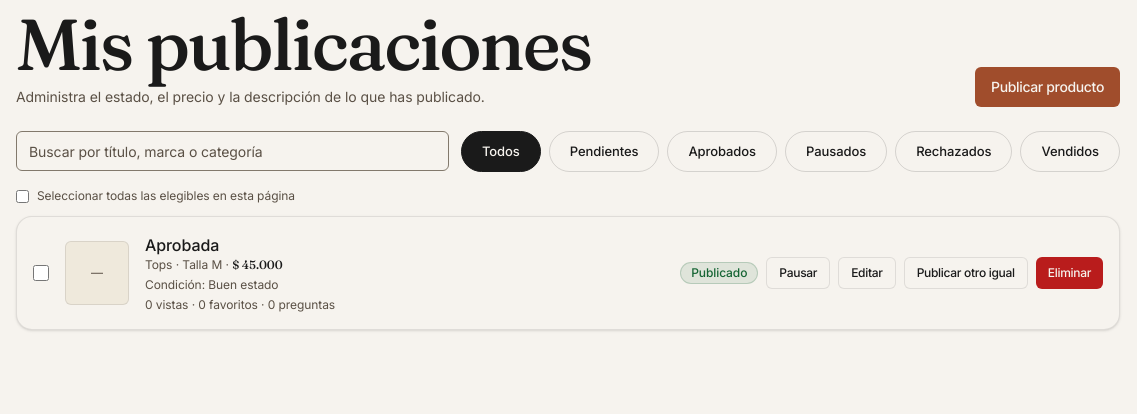
Test: MisProductosPage › muestra un aviso distinto cuando ninguna de las seleccionadas se pudo pausar
Expected: the element with test id "mine-product-p35" is shown, [16,216,1120,330]
Click the checkbox named "seleccionar aprobada". click: [41, 273]
box: [33,265,49,281]
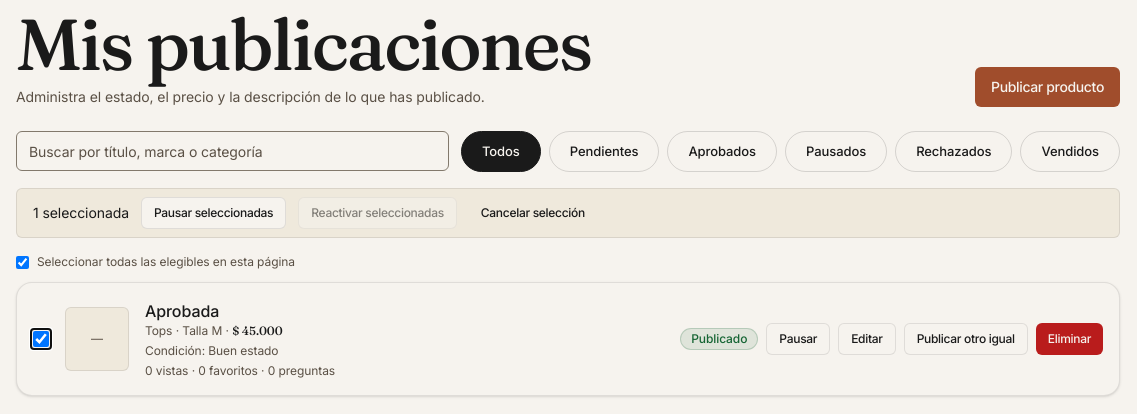
Click the button "Pausar seleccionadas". click: [214, 213]
box: [141,197,286,229]
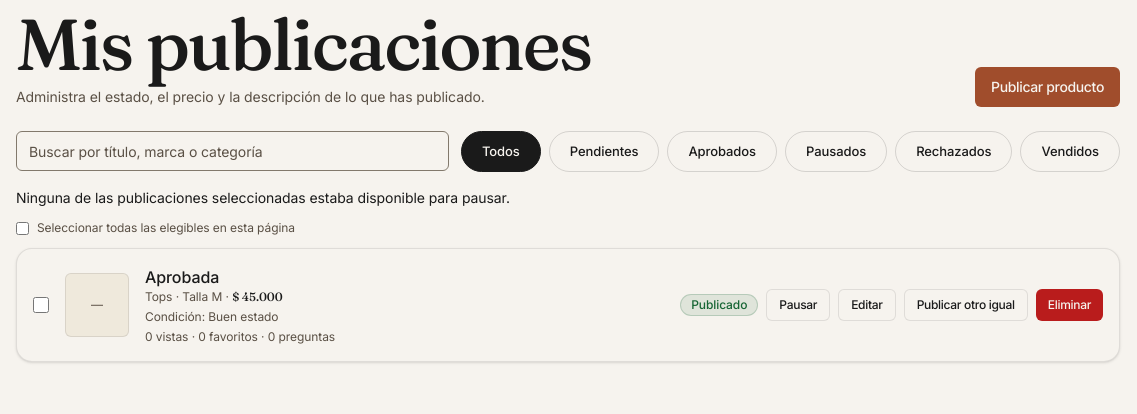
Now the text "Ninguna de las publicaciones seleccionadas estaba disponible para pausar." is shown, box [16,189,510,206]
